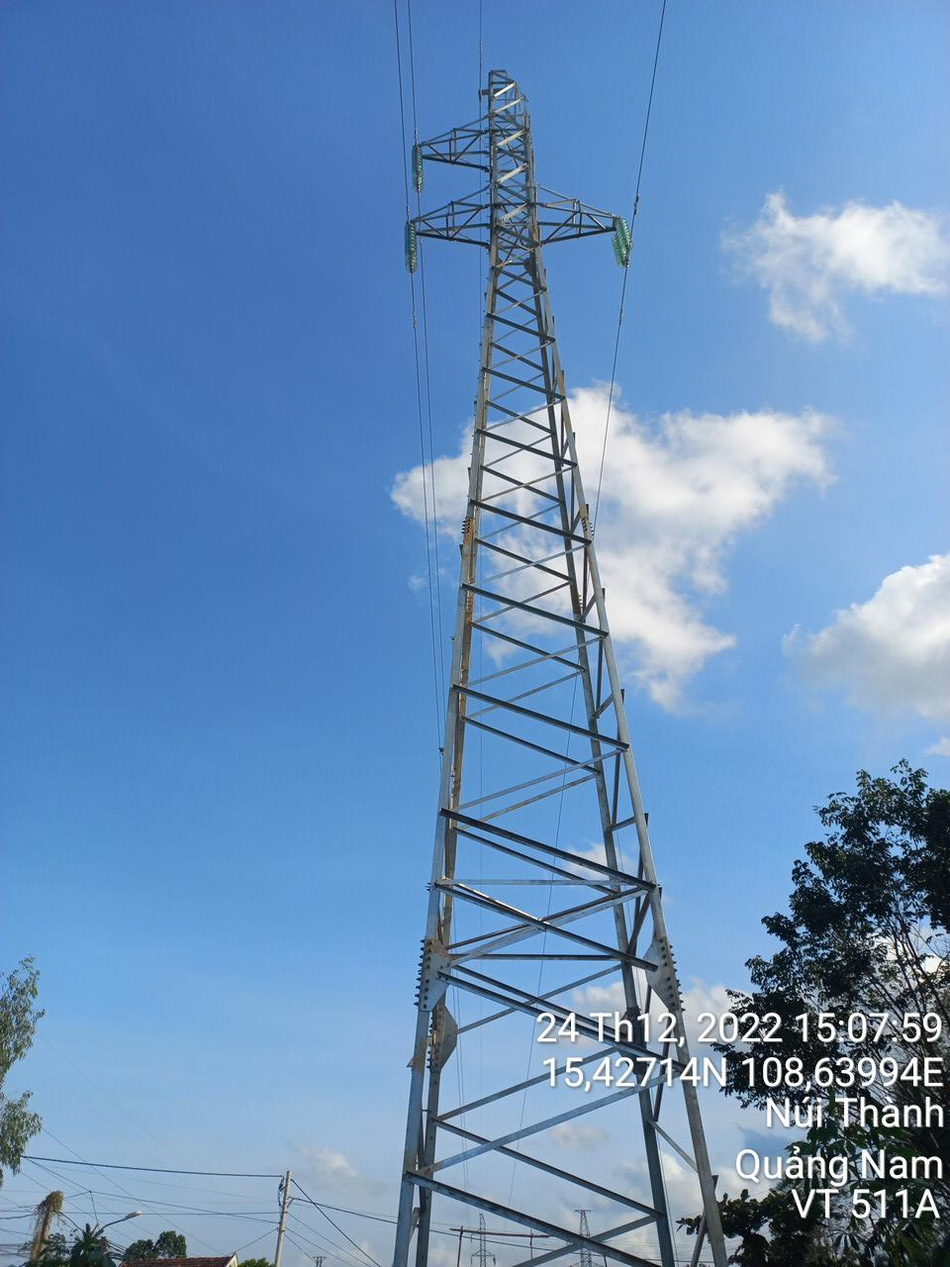power_tower: (352, 46, 691, 1000)
